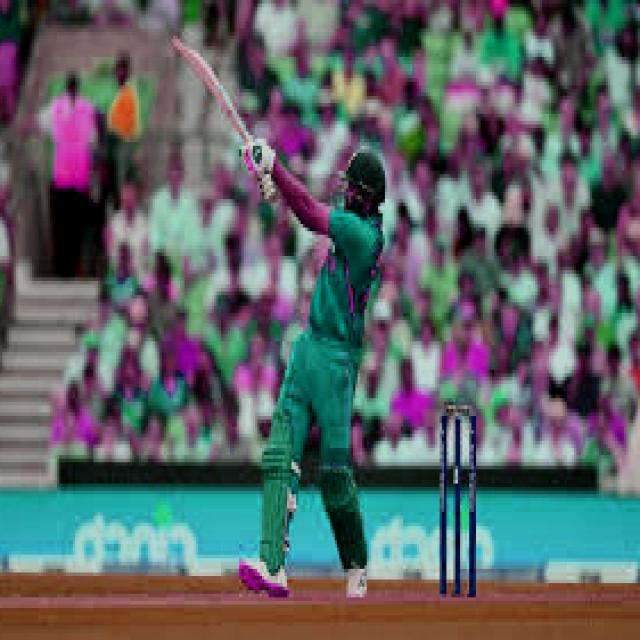toe: (166, 25, 184, 59)
